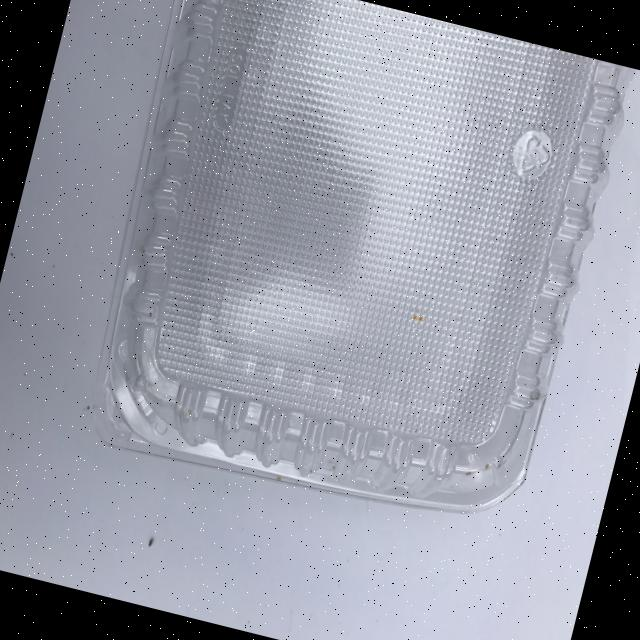plastic: (64, 0, 637, 547)
